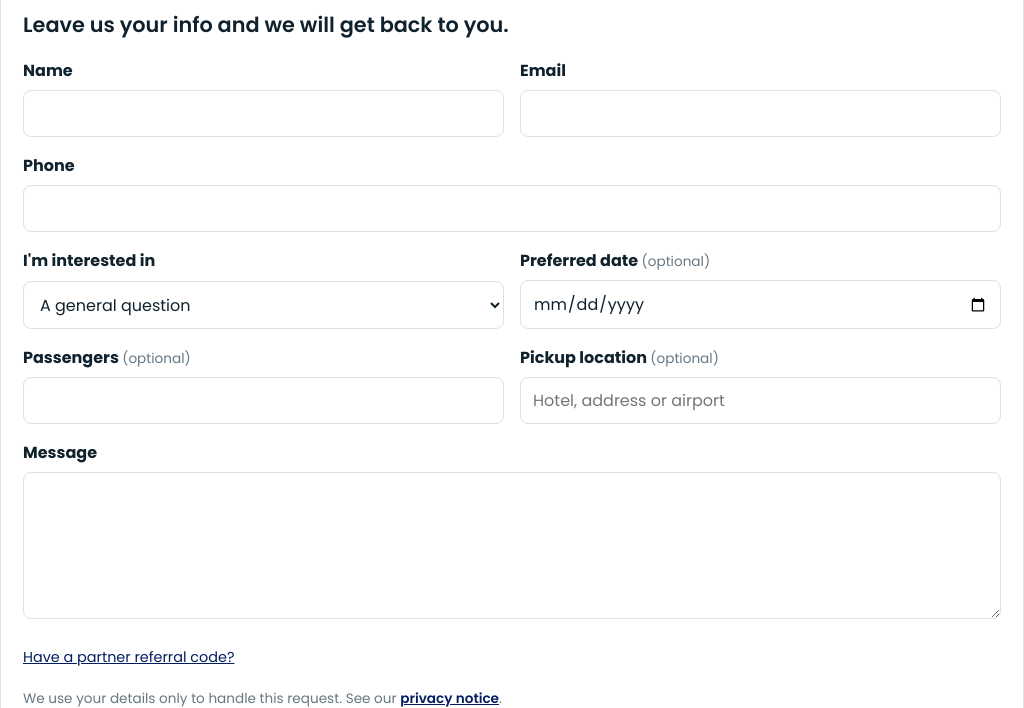
Test: website enquiry form › sends details edited after a failure as a new enquiry, so the edit is not answered with the earlier one
The image size is (1024, 708).
Type "Thandi Nkosi" into the field labelled "Name" at (264, 114), box [23,90,504,138]
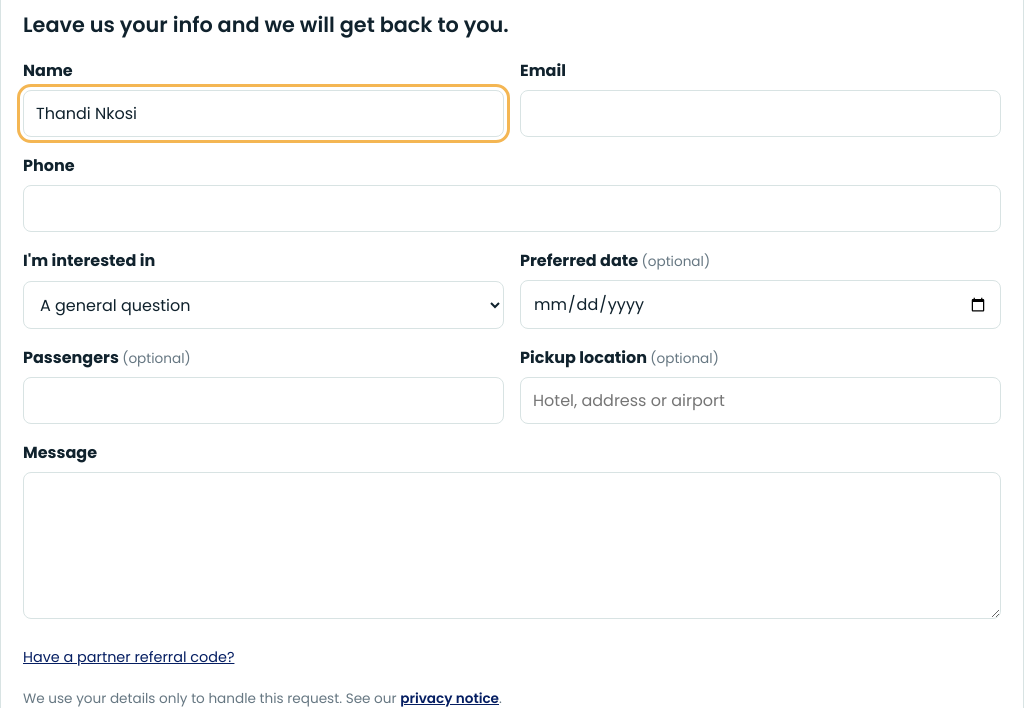
Type "thandi@example.com" into the field labelled "Email" at (760, 114), box [520,90,1001,138]
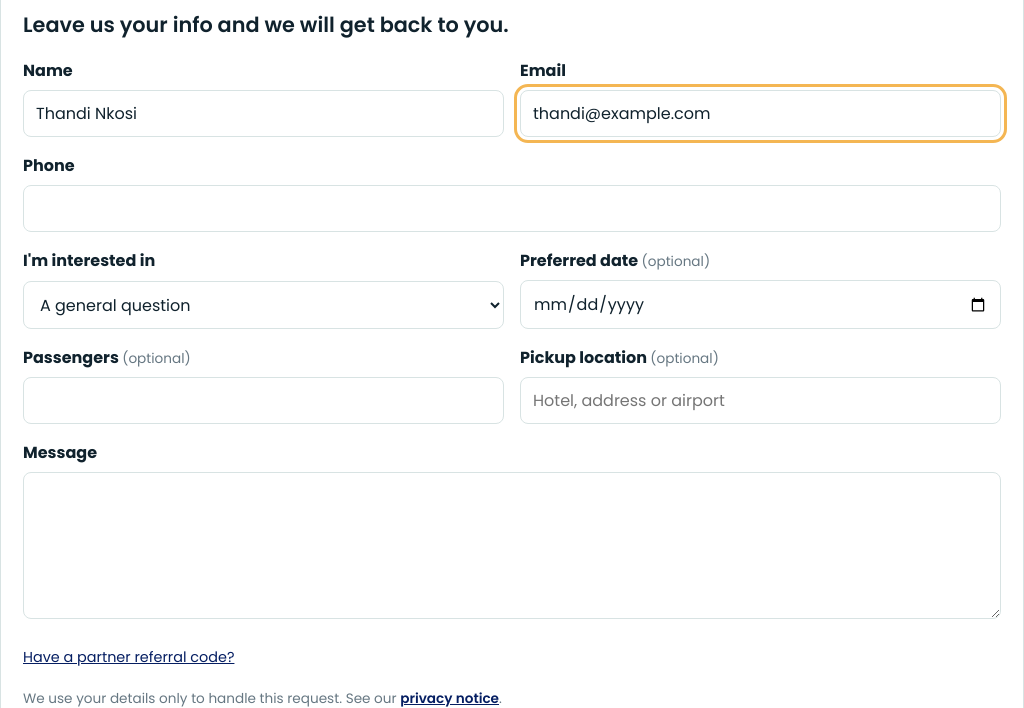
Type "Can you collect us from the airport?" into the text box labelled "Message" at (512, 546), box [23,472,1001,620]
(page scrolled)
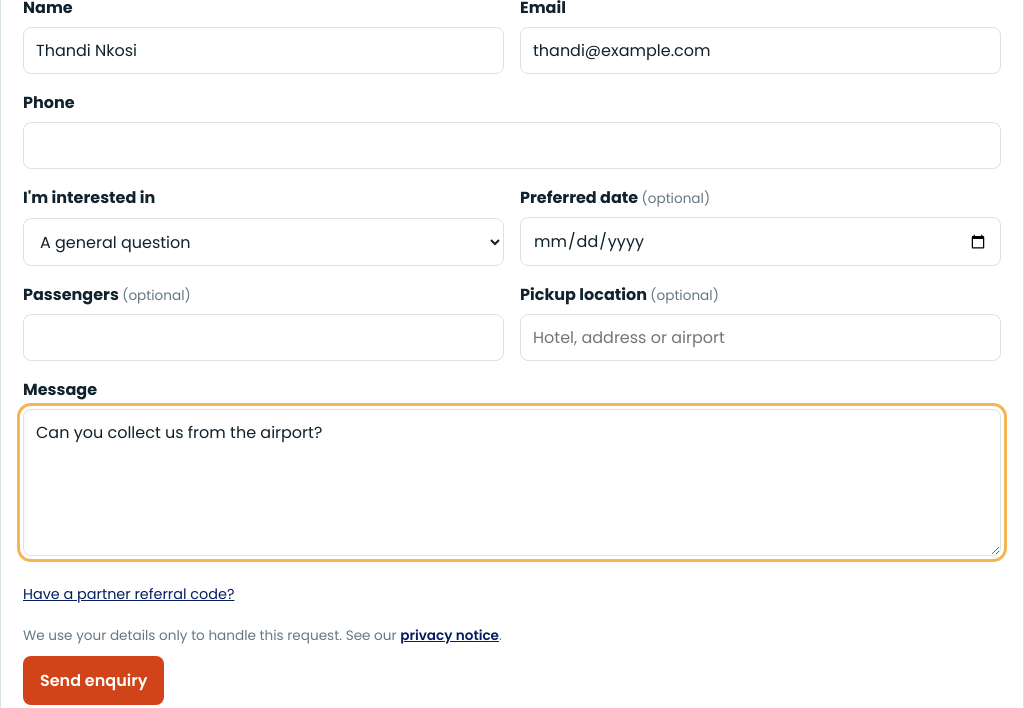
Click the button "Send enquiry" at (94, 680), box [23,656,164,705]
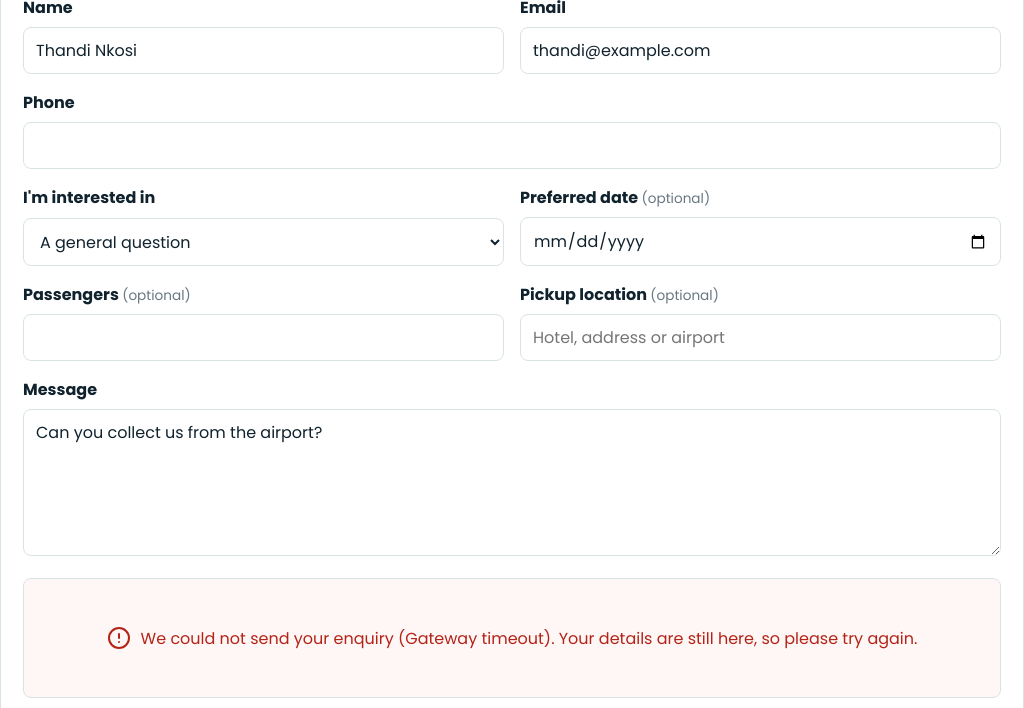
Result: the text "could not send your enquiry" is shown at [141,627,917,650]
Type " We are four adults." into the text box labelled "Message" at (512, 483), box [23,410,1001,556]
(page scrolled)
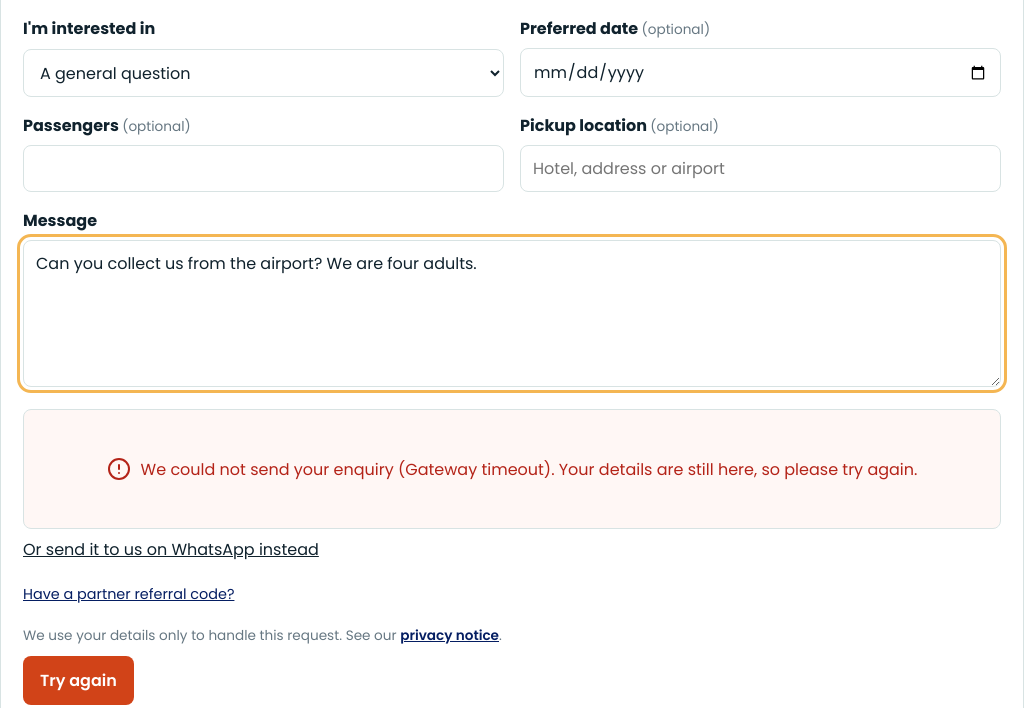
Click the button "Try again" at (78, 680), box [23,656,134,705]
(page scrolled)
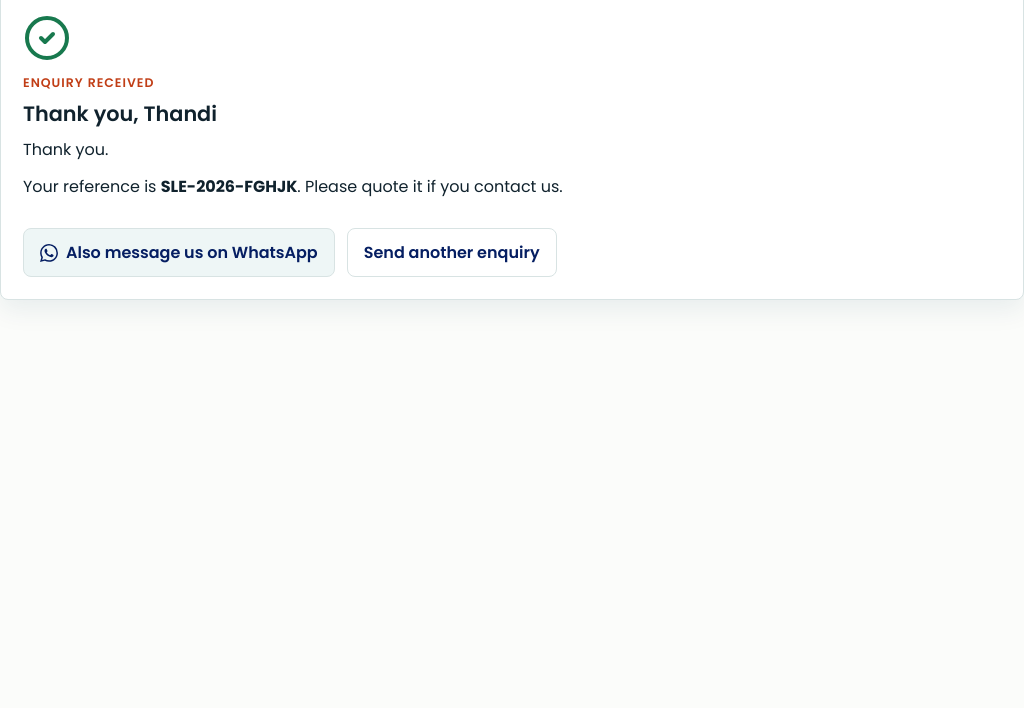
Result: the text "Enquiry received" is shown at [23,72,154,93]
